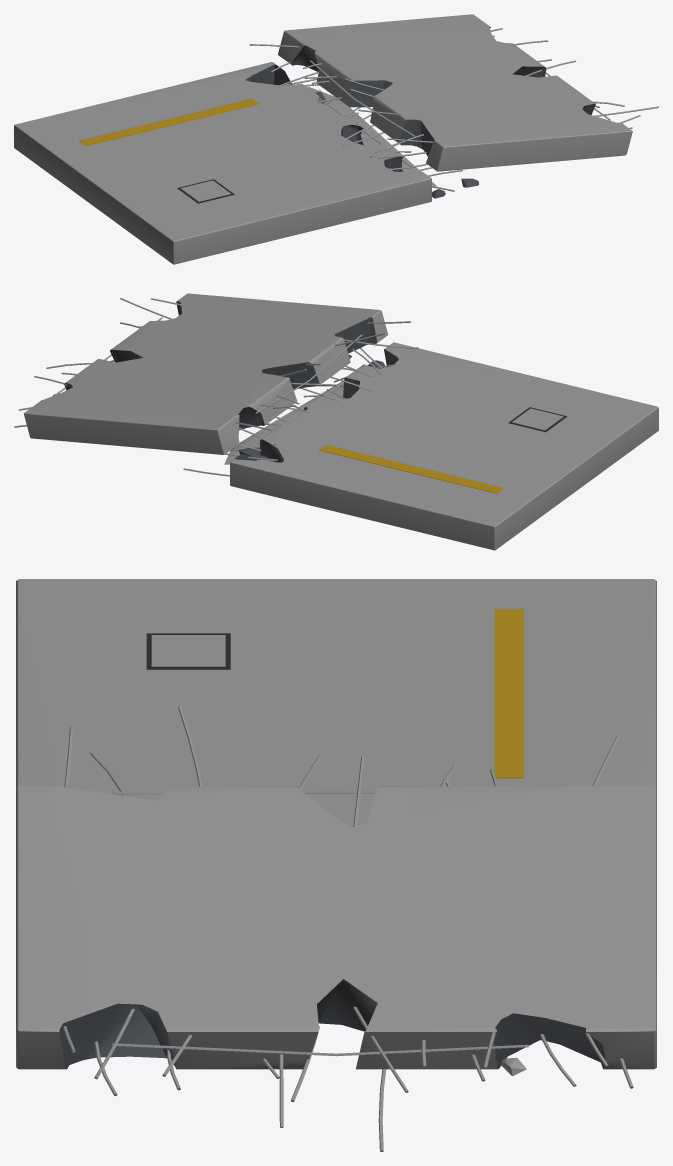
The model's file is Slab_Broken_Flat.fbx.
3 renders of one model, top to bottom at view 1: azimuth 30°, elevation 25°; view 2: azimuth 150°, elevation 25°; view 3: azimuth 270°, elevation 25°, orthographic. The views are drawn at different scales.
Visible parts, largest first — view 1: Slab_Broken_Flat_LOD0; view 2: Slab_Broken_Flat_LOD0; view 3: Slab_Broken_Flat_LOD0.
Boxes of the visible parts, x1,y1,x2,y2 form: Slab_Broken_Flat_LOD0: (14,14,658,264); Slab_Broken_Flat_LOD0: (14,293,658,550); Slab_Broken_Flat_LOD0: (16,579,656,1151).
Size of what is drawn, in the model's own units: 4.74 by 0.81 by 2.6.
